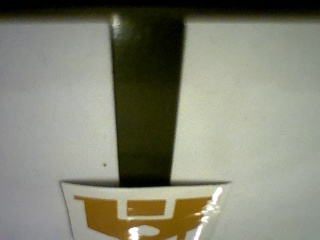Rescue_Station: (72, 194, 213, 240)
